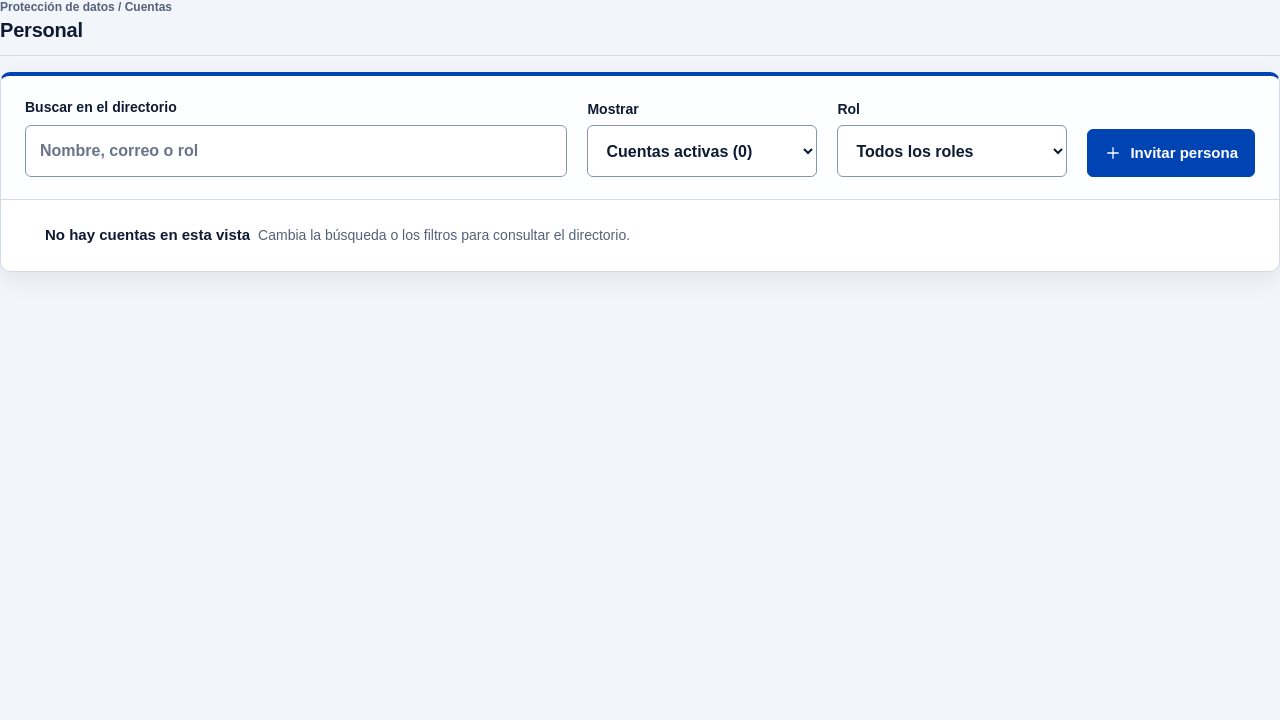
it: Personal · invitaciones y acciones según el servidor (MA-CTA-01 a 03) › la invitación no ofrece el rol de paciente: el paciente se registra en la app
This screenshot has width=1280, height=720.
Click the button "Invitar persona" at {"x": 1171, "y": 153}, box top-left (1088, 129), bottom-right (1255, 177)
(page scrolled)
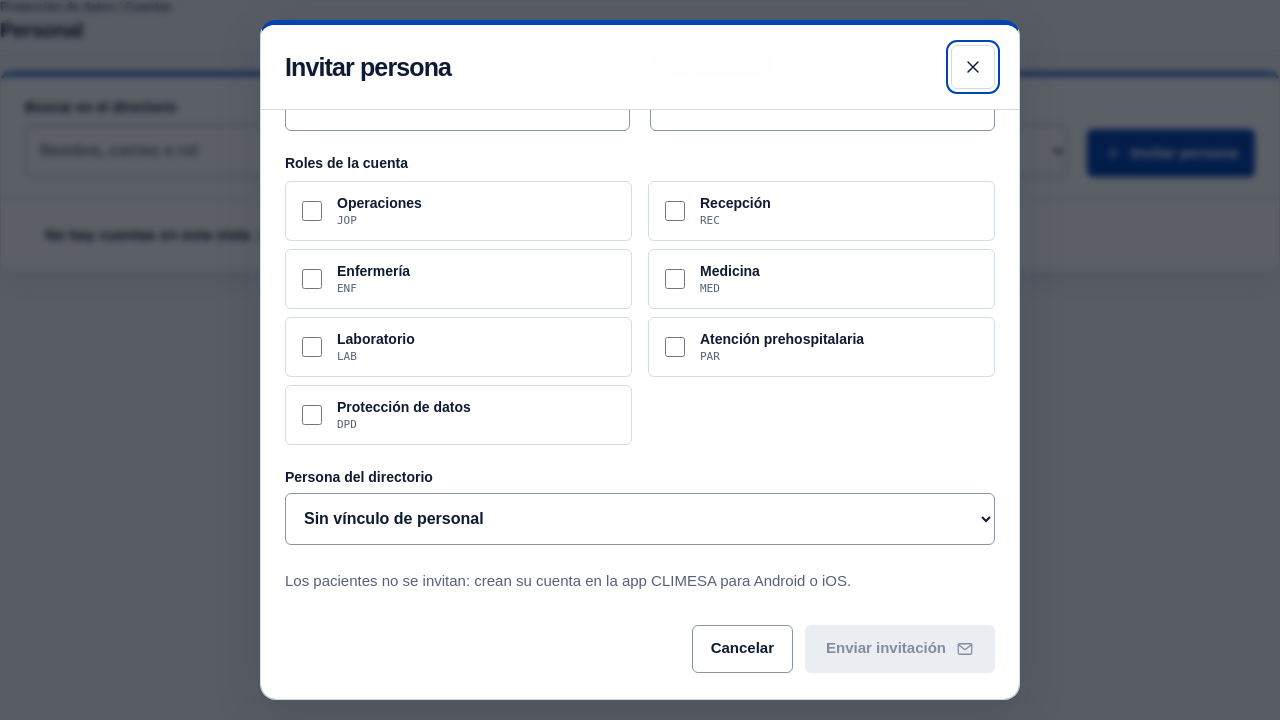
Now the button "Enviar invitación" is disabled, box top-left (805, 625), bottom-right (995, 673)
